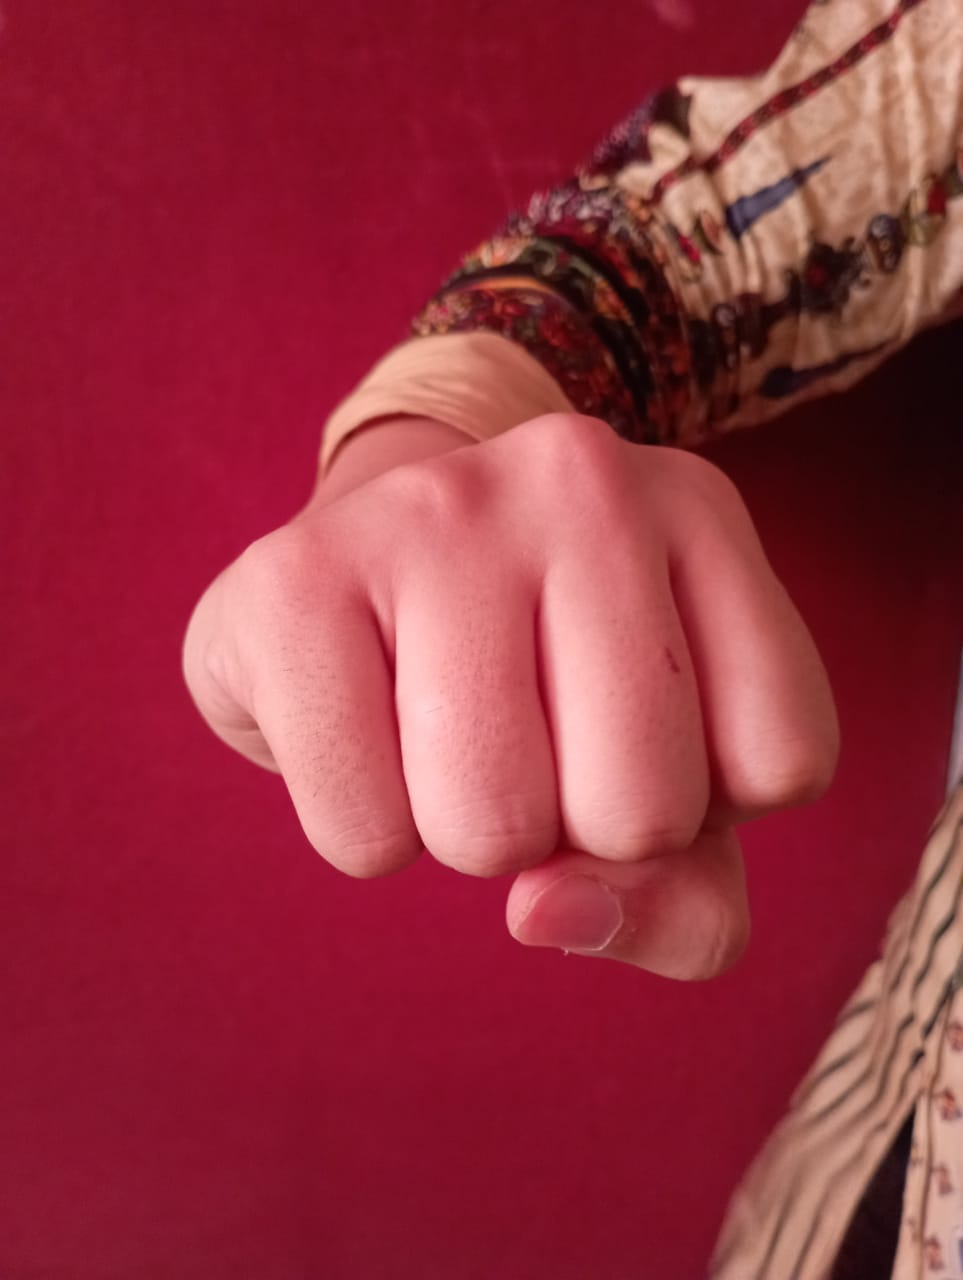BroCode: (168, 406, 864, 996)
